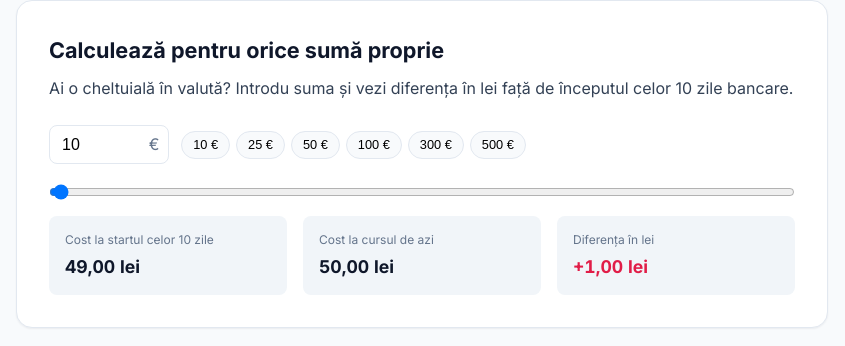
Scenario: Calculator › recalculează rezultatele când utilizatorul editează suma
Replace the text in the number field with "100" at coordinates (109, 145), box [49,125,169,164]
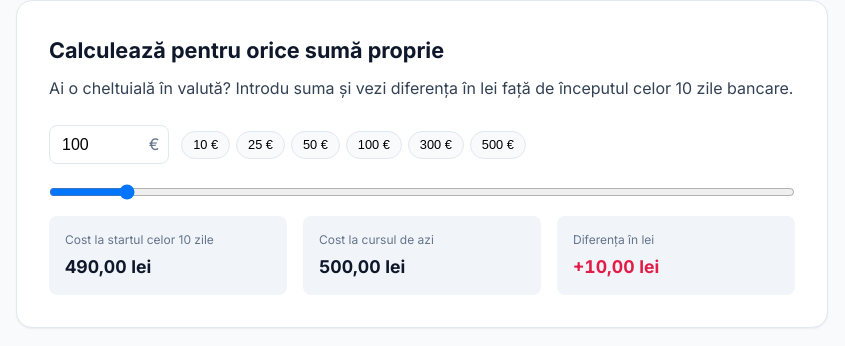
Now the text "500,00 lei" is shown, box [319,253,405,281]
Now the text "490,00 lei" is shown, box [65,253,151,281]
